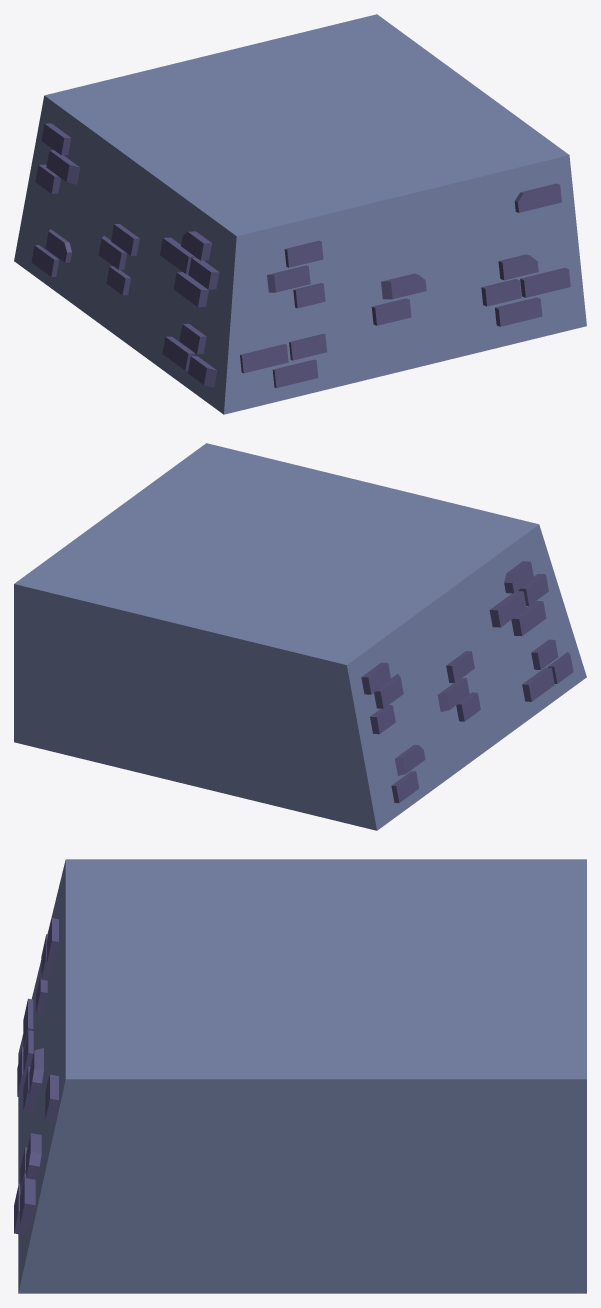
The model's file is Wall_Base_Mid_Corner_01.fbx.
The picture shows the model from 3 angles, top to bottom: view 1: azimuth 30°, elevation 25°; view 2: azimuth 150°, elevation 25°; view 3: azimuth 270°, elevation 25°; orthographic projection. The views are drawn at different scales.
Parts seen in each view (by area): view 1: Wall_Base_Mid_Corner_01; view 2: Wall_Base_Mid_Corner_01; view 3: Wall_Base_Mid_Corner_01.
Part boxes in pixels (box(x1,y1,x2,y2)): Wall_Base_Mid_Corner_01: box(14, 14, 586, 414); Wall_Base_Mid_Corner_01: box(14, 443, 586, 830); Wall_Base_Mid_Corner_01: box(14, 859, 586, 1293).
Size of the model in its own units: 1211 by 500 by 1211.
